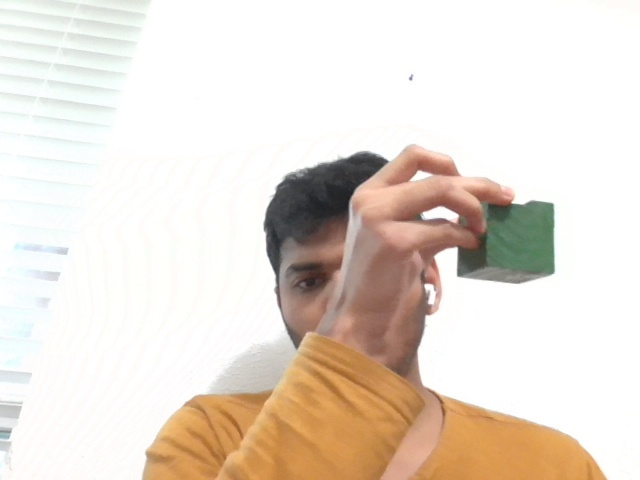GreenBlock: (481, 200, 557, 284)
